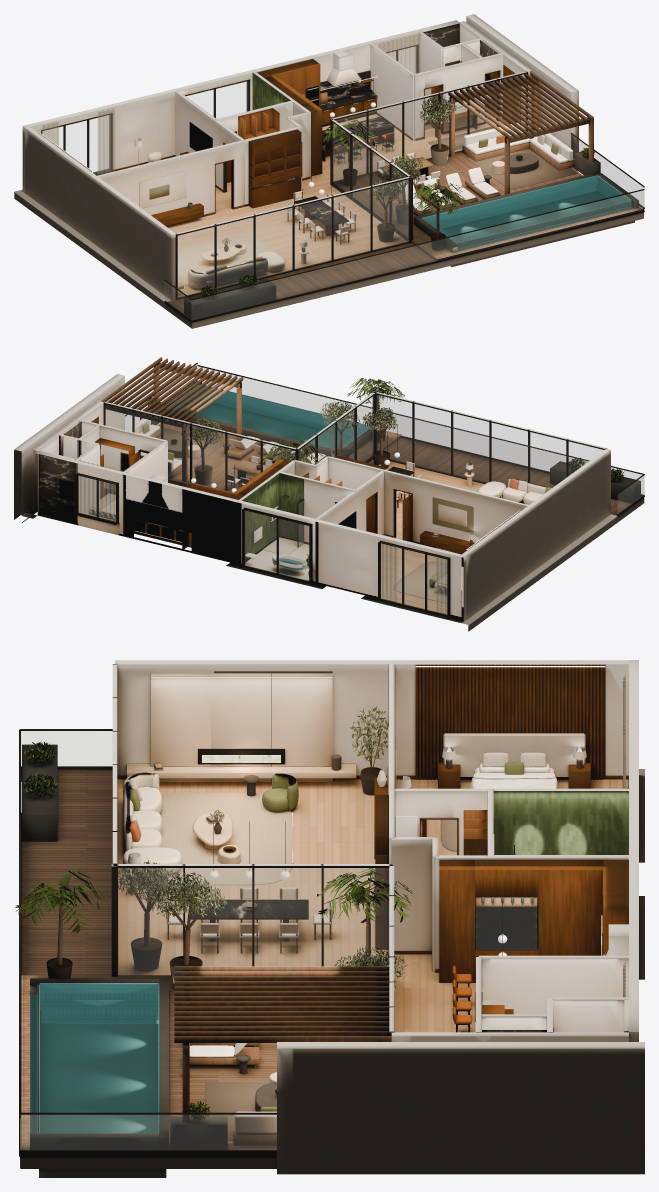
Rendered from cobertura-4096.glb.
3 views of the same model, one above another, from view 1: azimuth 30°, elevation 25°; view 2: azimuth 150°, elevation 25°; view 3: azimuth 270°, elevation 25° (orthographic). The views are drawn at different scales.
Visible parts, largest first — view 1: casco, itens, vidro, agua, folhas, cortinas; view 2: casco, itens, vidro, agua, folhas, cortinas; view 3: casco, itens, vidro, agua, folhas.
Boxes of the visible parts, <box> form: casco: <box>14,14,644,328</box>; itens: <box>37,22,644,322</box>; vidro: <box>59,62,644,320</box>; agua: <box>422,176,632,250</box>; folhas: <box>200,96,594,297</box>; cortinas: <box>42,34,420,175</box>; casco: <box>14,374,644,631</box>; itens: <box>26,357,644,615</box>; vidro: <box>78,364,644,614</box>; agua: <box>167,384,371,570</box>; folhas: <box>146,378,624,567</box>; cortinas: <box>79,460,451,613</box>; casco: <box>20,660,644,1177</box>; itens: <box>16,664,628,1156</box>; vidro: <box>20,731,536,1149</box>; agua: <box>30,984,158,1133</box>; folhas: <box>15,706,412,1121</box>.
Bounding box in the file's own units: 23.63 × 3.94 × 15.95.
6 materials, 2 textured.
